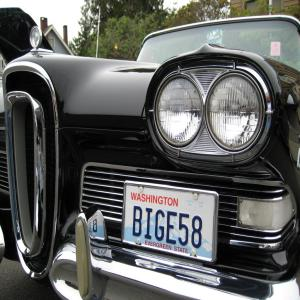Vehicle-registration-plate: (123, 183, 220, 263)
